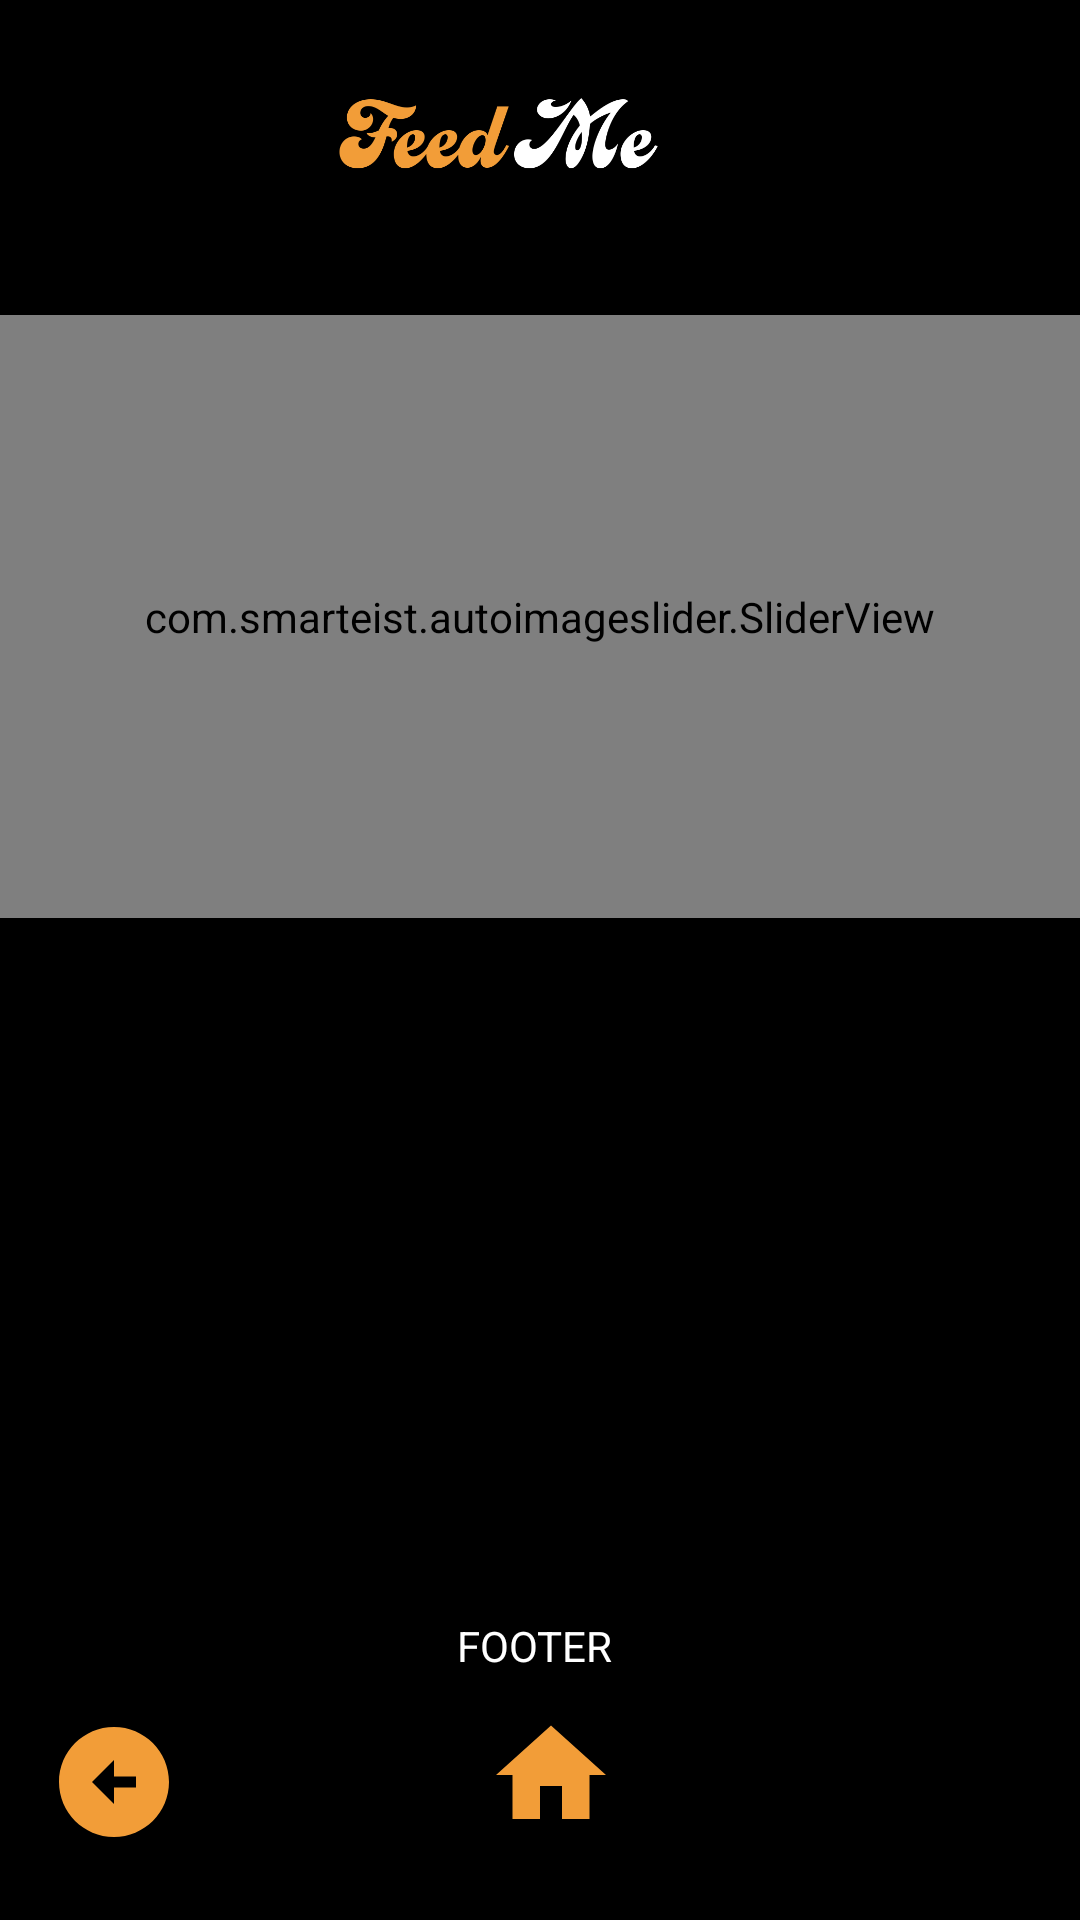

Named icons in this screenshot (1080×1920) and their centers, (x,y):
arrow circle left: (114,1782)
home: (551,1772)
